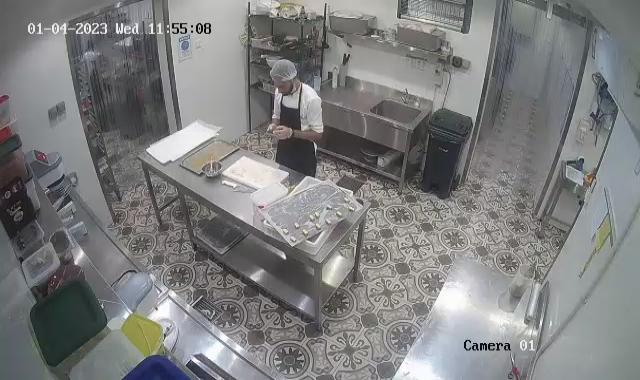hairnet: (268, 57, 297, 84)
